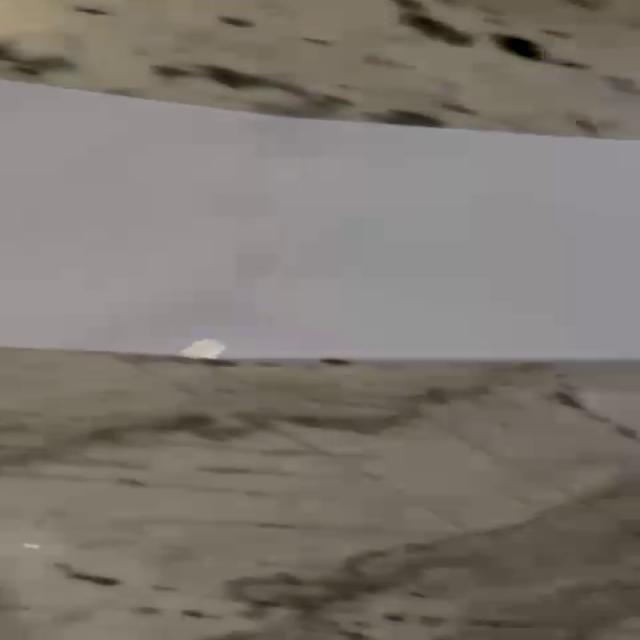road: (0, 76, 640, 362)
